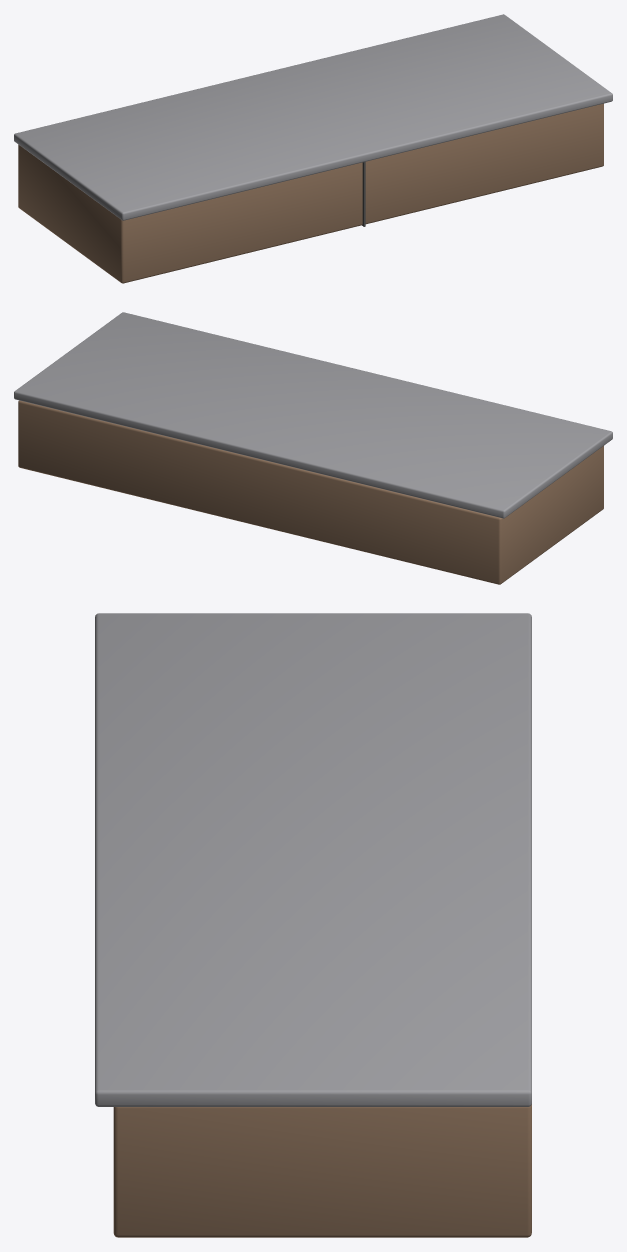
File: it_dresser.glb
The picture shows the model from 3 angles, top to bottom: view 1: azimuth 30°, elevation 25°; view 2: azimuth 150°, elevation 25°; view 3: azimuth 270°, elevation 25°; orthographic projection. The views are drawn at different scales.
Parts seen in each view (by area): view 1: top, body; view 2: top, body; view 3: top, body.
Part boxes in pixels (x1,y1,x2,y2): top: [14, 14, 612, 220]; body: [18, 103, 603, 283]; top: [14, 312, 612, 518]; body: [18, 400, 603, 584]; top: [95, 613, 531, 1106]; body: [113, 1104, 531, 1237].
Size of the model in its own units: 1.22 by 0.18 by 0.47.
